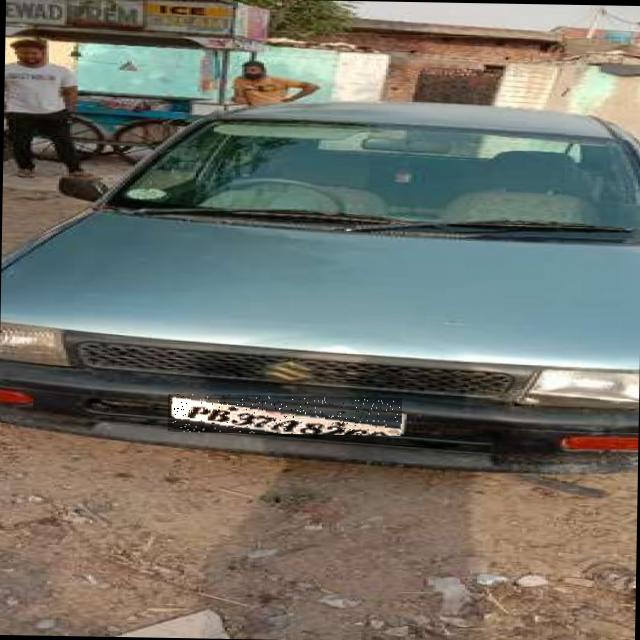Plate: (168, 395, 403, 437)
